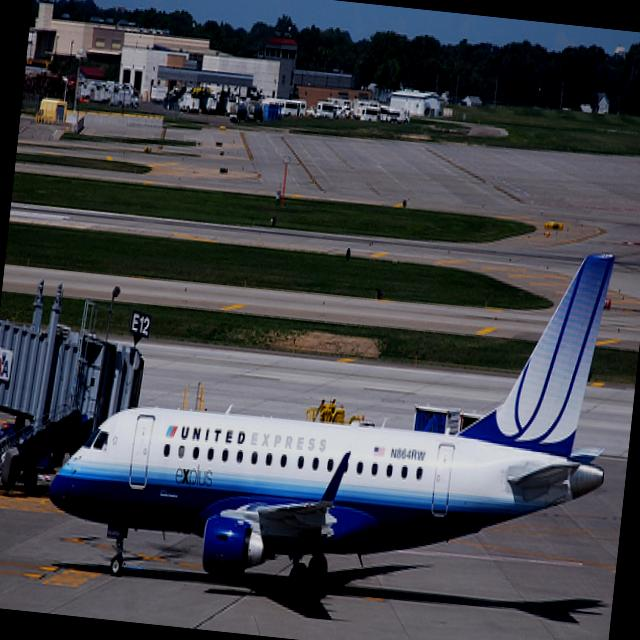Vehicle: (85, 79, 114, 105), (324, 98, 354, 120), (202, 88, 224, 114), (282, 98, 306, 120), (386, 106, 410, 126), (178, 93, 200, 114), (316, 100, 335, 122), (360, 104, 382, 123), (380, 108, 389, 121), (306, 105, 316, 116)
